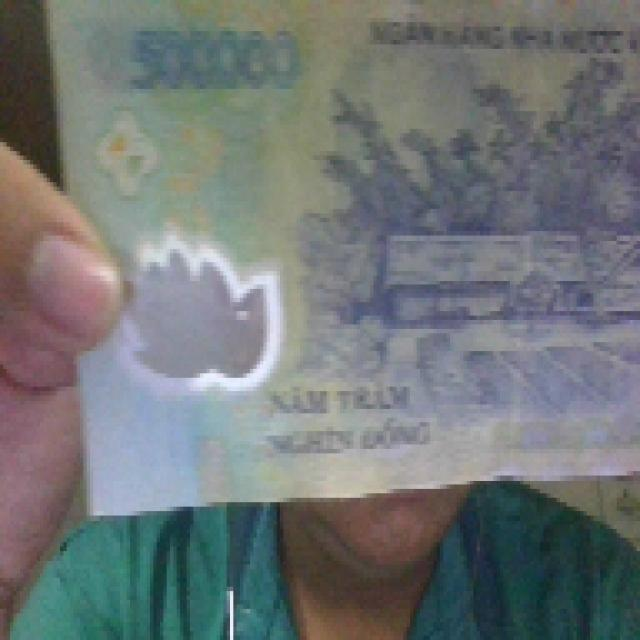500 000 VND: (33, 0, 637, 516)
